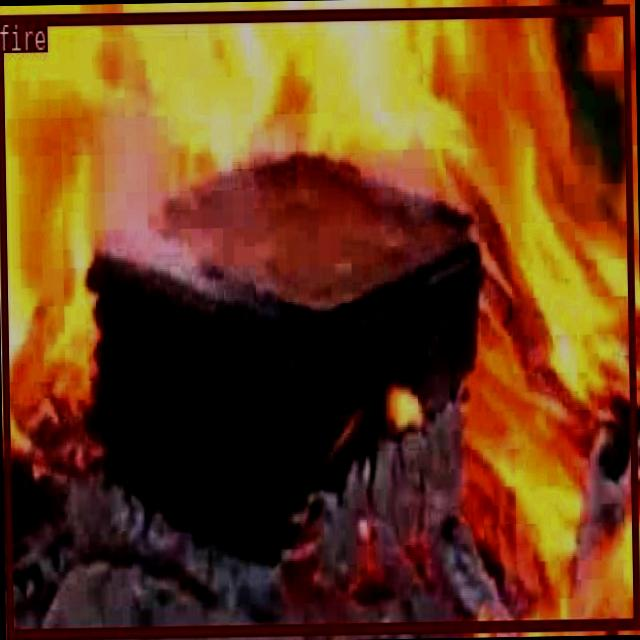fire: (0, 2, 638, 637)
